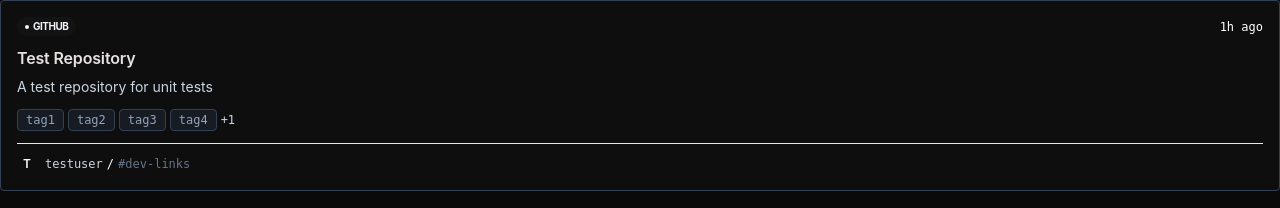
Test: LinkCard › expands tags when "+N" button is clicked
Click the button "+1": (228, 120) [221, 109, 235, 131]
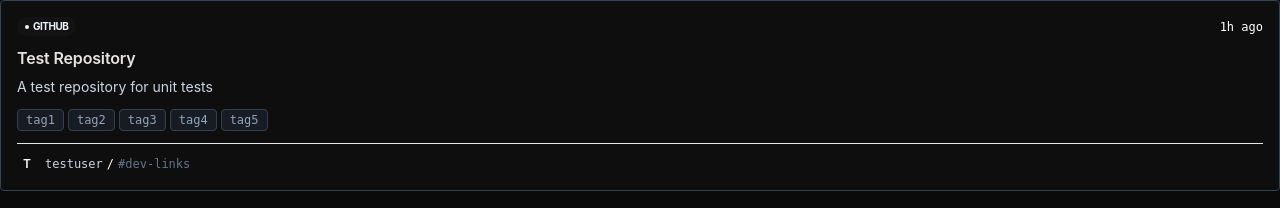
Now the button "tag5" is shown, box [221, 109, 268, 131]
